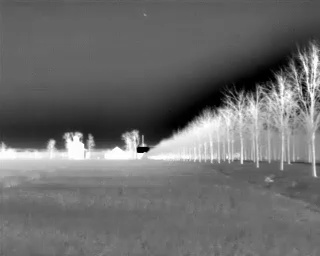BIRD: (142, 11, 148, 18)
